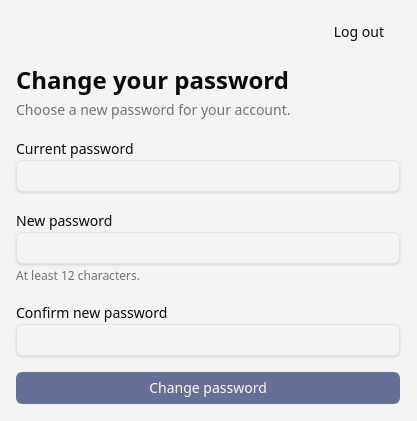
ChangePasswordPage（spec rev 5.7） › 忘記目前密碼：改密碼頁上的登出按鈕會登出並導向 /login（Important 1：避免使用者被永久卡在此頁）
Expected: the heading "Change your password" is shown, [16, 63, 289, 96]
Click the button "Log out". click: x=359, y=32
box: [318, 16, 400, 48]
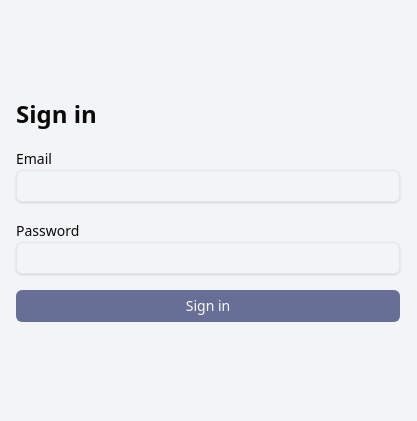
Result: the heading "Sign in" is shown at [16, 97, 97, 130]
Result: the heading "Change your password" is gone
